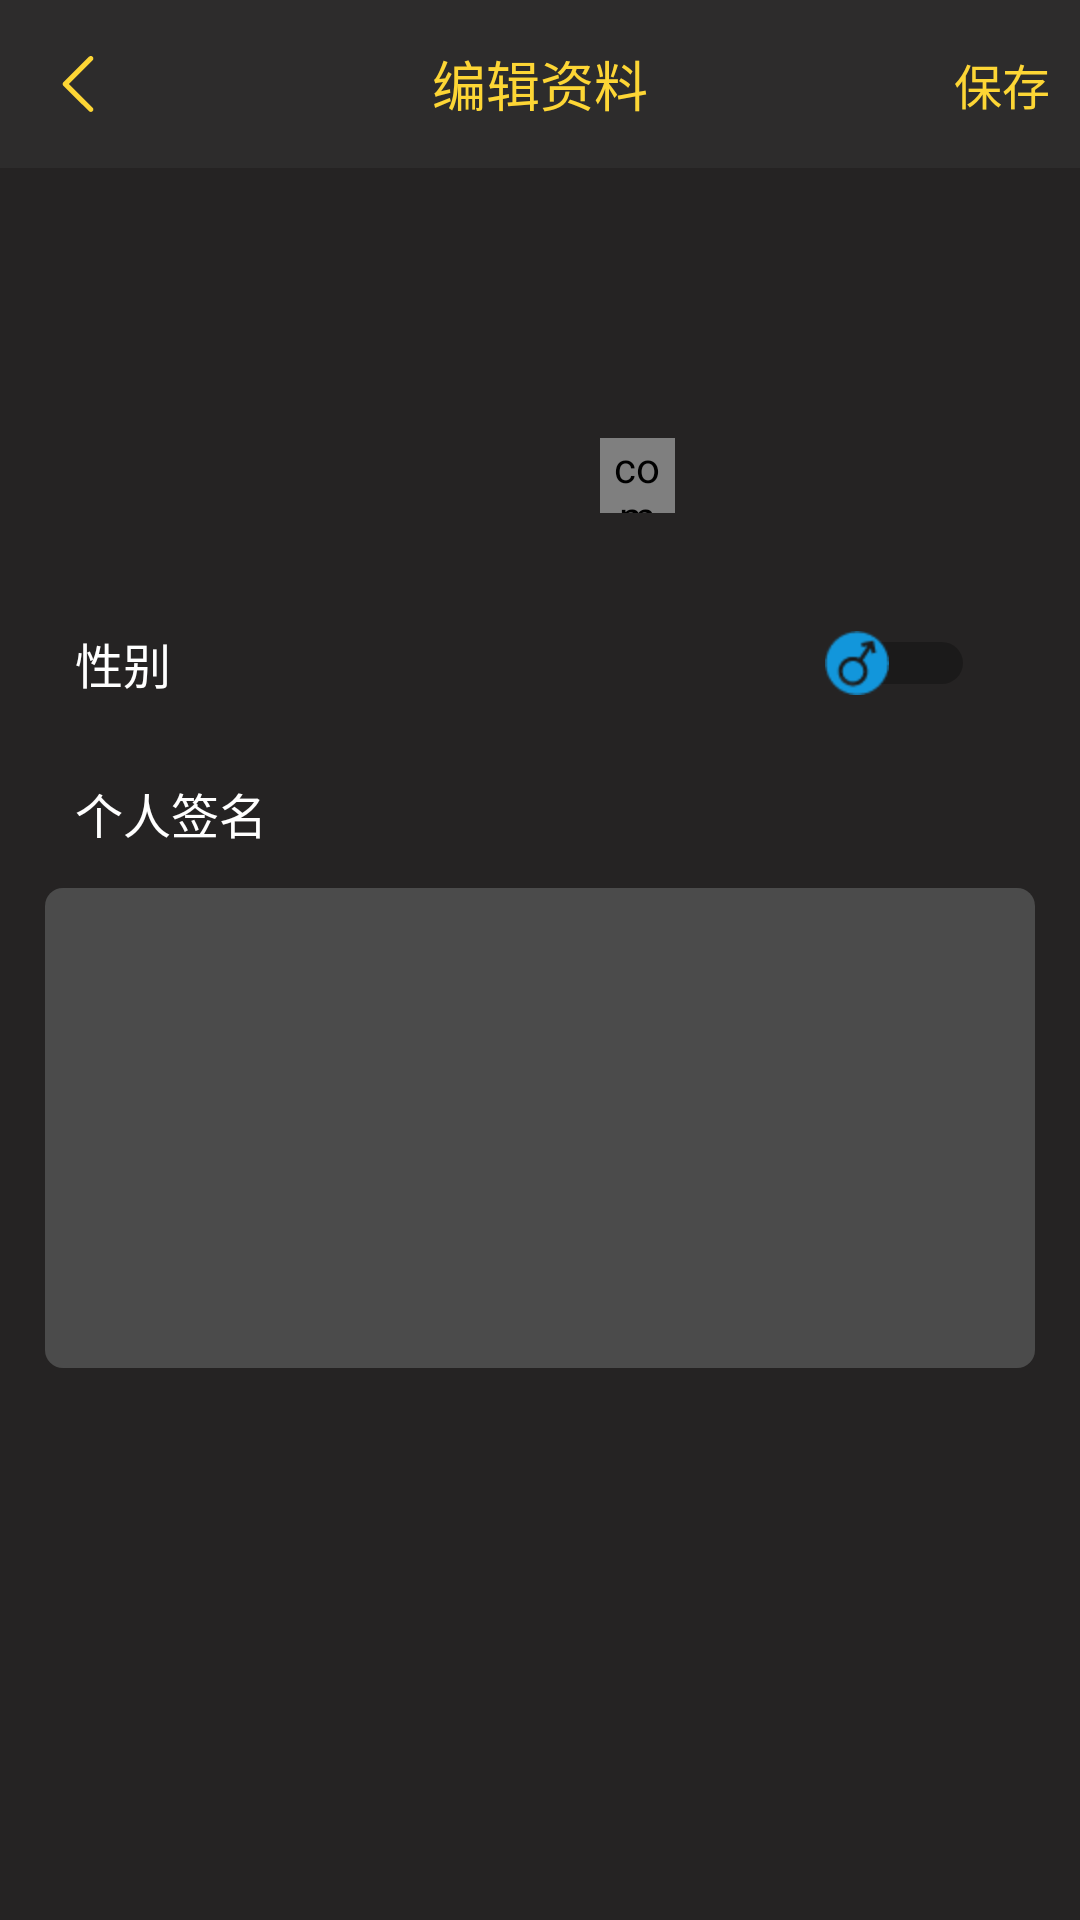

Where to tap for icons on this 1080×1920 app screen, as (x,y):
socket icom back: (78,84)
